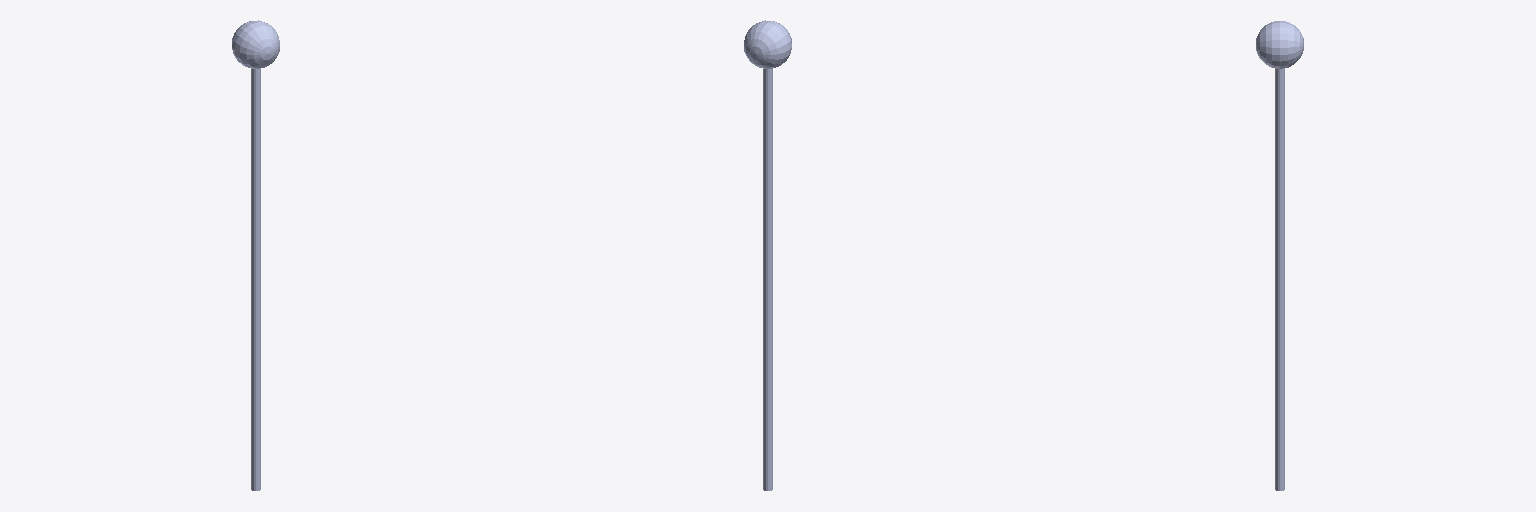
URDF robot description (GoalPin):
<?xml version="1.0" encoding="utf-8"?>
<!-- This URDF was automatically created by SolidWorks to URDF Exporter! Originally created by Stephen Brawner ([email redacted]) 
     Commit Version: 1.6.0-4-g7f85cfe  Build Version: 1.6.7995.38578
     For more information, please see http://wiki.ros.org/sw_urdf_exporter -->
<robot
  name="GoalPin">
  <link
    name="base_link">
    <inertial>
      <origin
        xyz="6.763134216048E-07 -2.18261648544423E-16 20.2355500030835"
        rpy="0 0 0" />
      <mass
        value="12847.0123913111" />
      <inertia
        ixx="736089.328069523"
        ixy="-6.21545496151821E-13"
        ixz="-0.0124575504939455"
        iyy="736089.250754866"
        iyz="9.4088173303082E-12"
        izz="5259.07898792086" />
    </inertial>
    <visual>
      <origin
        xyz="0 0 0"
        rpy="0 0 0" />
      <geometry>
        <mesh
          filename="../meshes/base_link.STL" />
      </geometry>
      <material
        name="">
        <color
          rgba="0.792156862745098 0.819607843137255 0.933333333333333 1" />
      </material>
    </visual>
    <collision>
      <origin
        xyz="0 0 0"
        rpy="0 0 0" />
      <geometry>
        <mesh
          filename="../meshes/base_link.STL" />
      </geometry>
    </collision>
  </link>
</robot>

--- What the picture shows (computed from the rendered views, not written in the file) ---
The picture shows the robot from 3 angles, left to right: view 1: azimuth 30°, elevation 25°; view 2: azimuth 150°, elevation 25°; view 3: azimuth 270°, elevation 25°; orthographic projection.
Model GoalPin with 1 links and 0 joints (none), rooted at base_link, posed every joint at zero.
Links seen in each view (by area): view 1: base_link; view 2: base_link; view 3: base_link.
Link boxes in pixels (x1,y1,x2,y2): base_link: [232, 20, 279, 490]; base_link: [744, 20, 791, 490]; base_link: [1256, 21, 1303, 490].
Size in the robot's own frame: 2.5 by 2.5 by 26.25 metres.
1 mesh visuals loaded from 1 distinct referenced files (1 binary STL).
